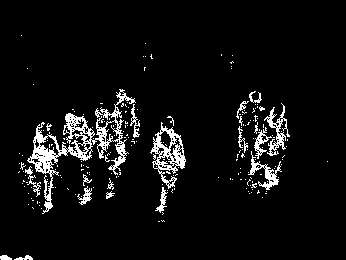person: (250, 101, 289, 197), (152, 113, 186, 215), (63, 112, 95, 207), (28, 121, 59, 215), (94, 107, 125, 199), (236, 89, 262, 159), (118, 89, 143, 146)
